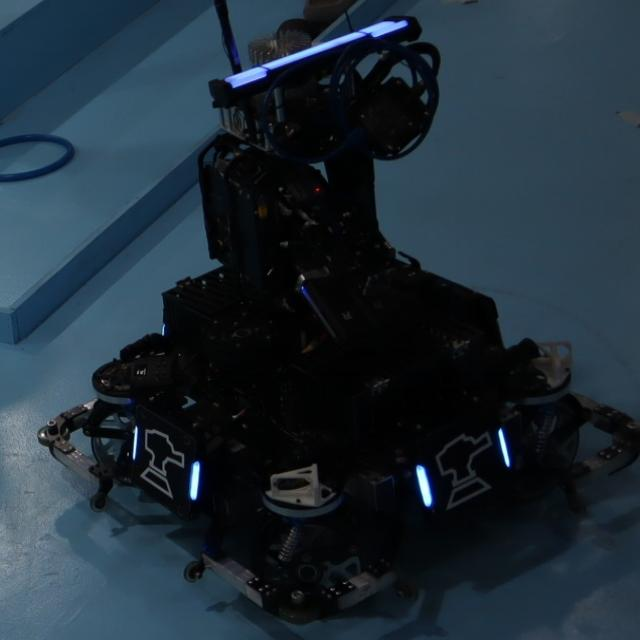Bs: (413, 422, 513, 512), (127, 419, 204, 505)
